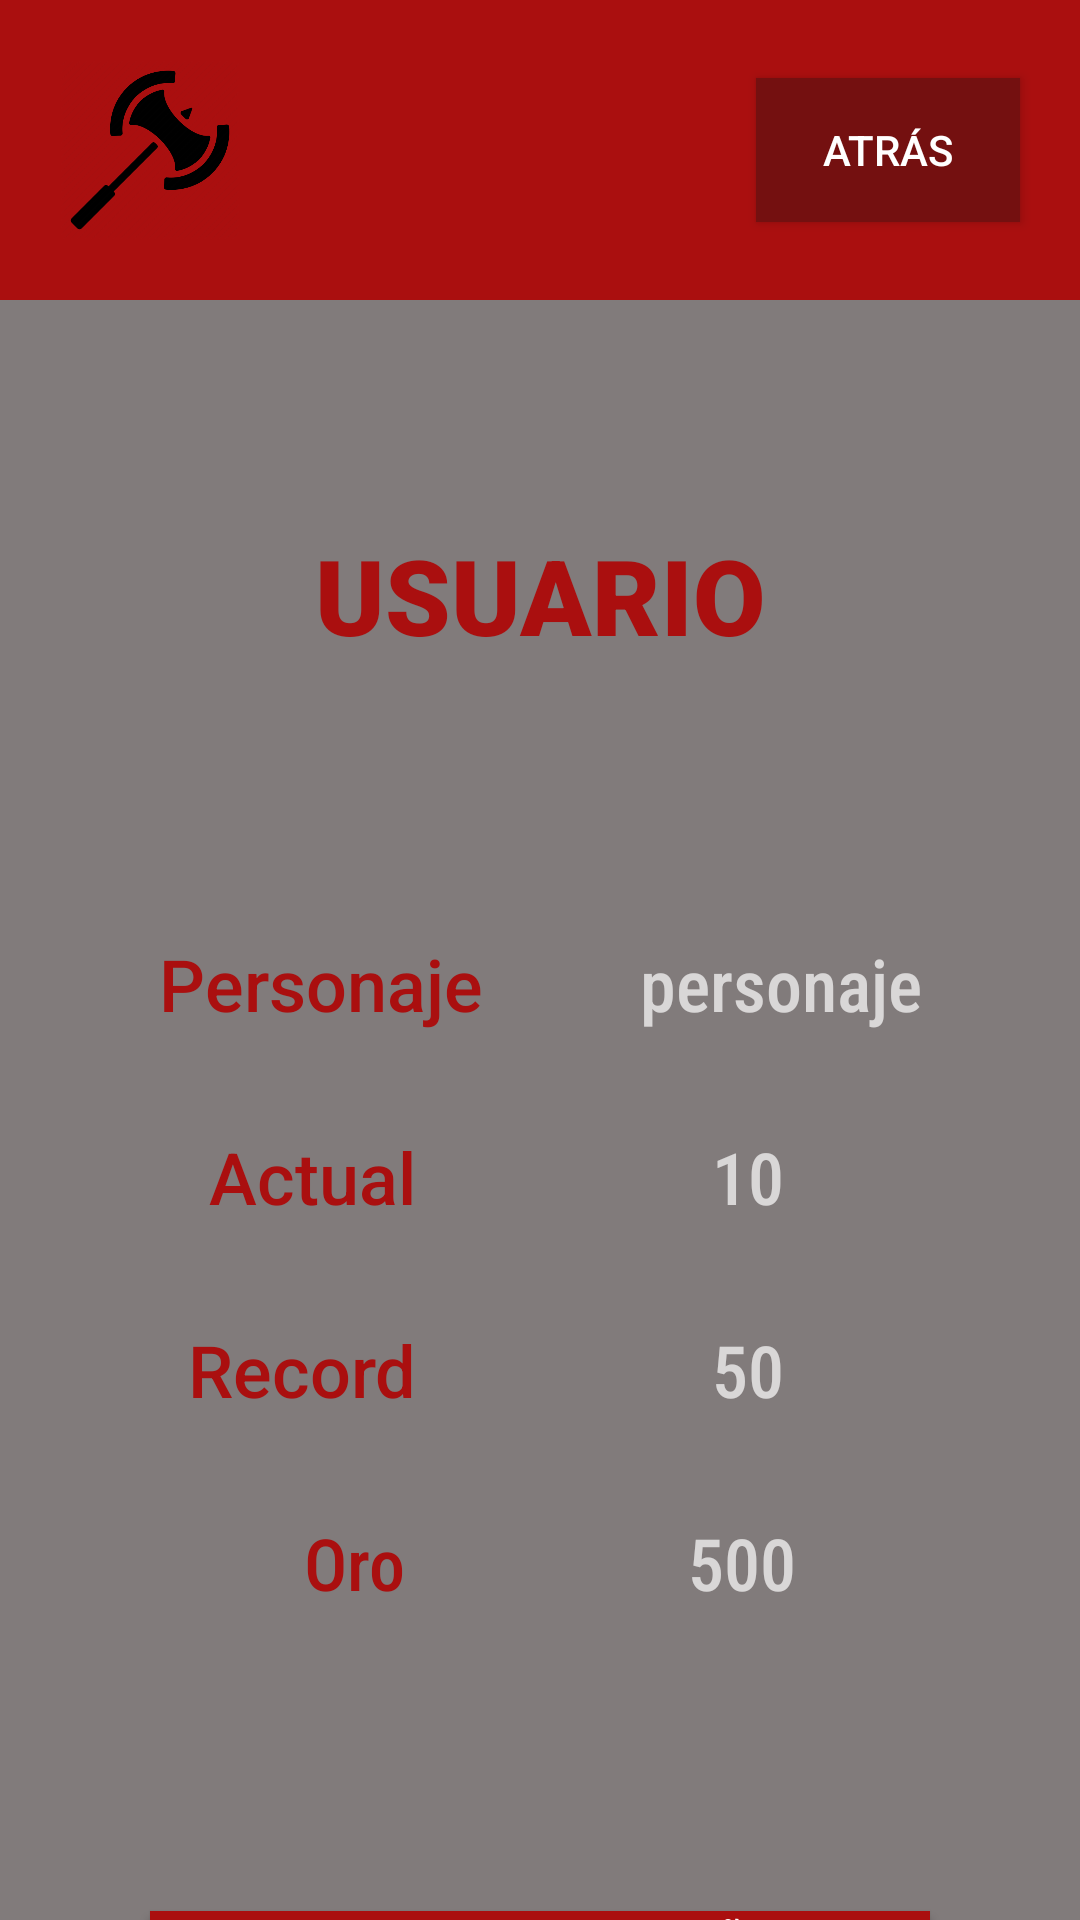

Where to tap for icons on this 1080×1920 app screen, as (x=x, y=y):
rolgameicon: (x=150, y=150)
